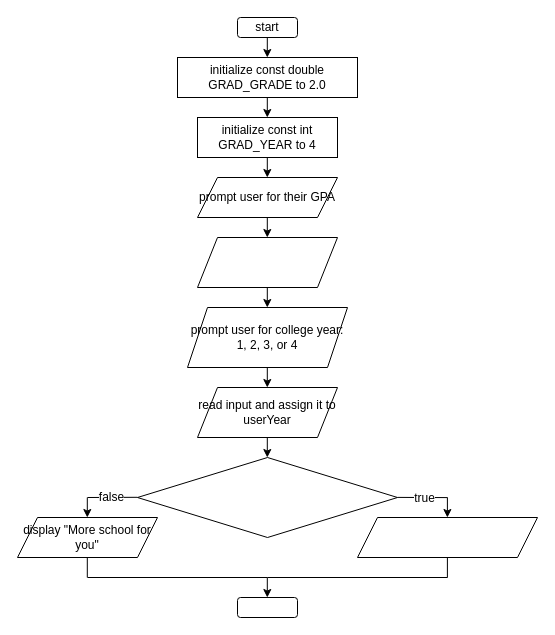
Some shapes in this 555 by 635 pixel diagram are drawn without their labels. Each missing label, with the centre of its shape:
display "You will be graduating this year": (x=447, y=537)
end: (x=267, y=607)
read input and assign it to userGrade: (x=267, y=262)
userGrade >= GRAD_GRADE and userYear == GRAD_YEAR ?: (x=267, y=497)
